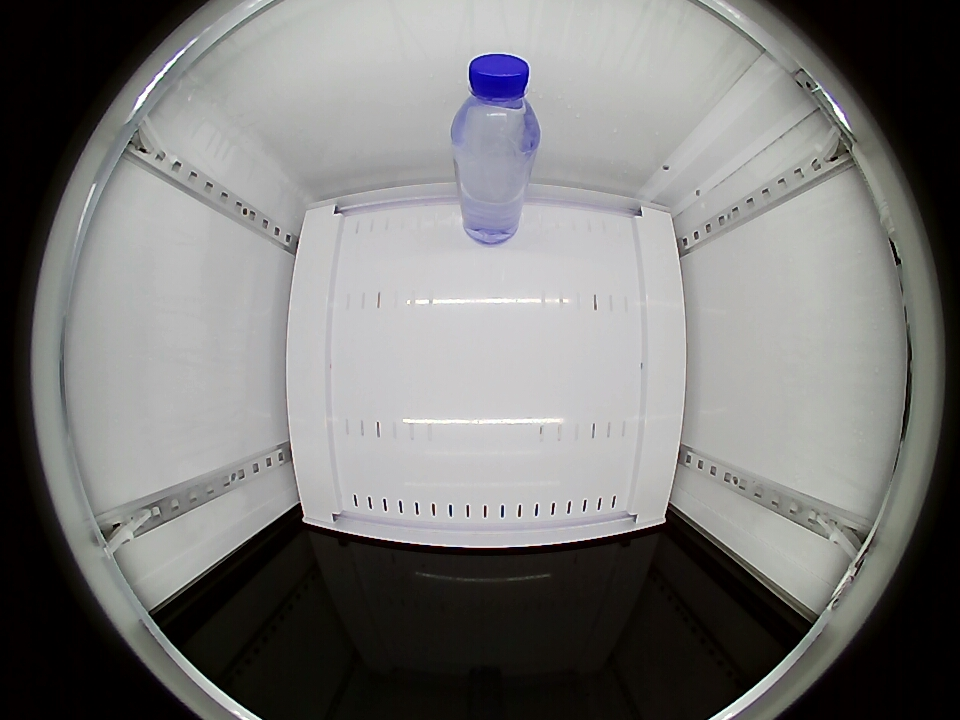aerbeisi: (452, 53, 541, 158)
